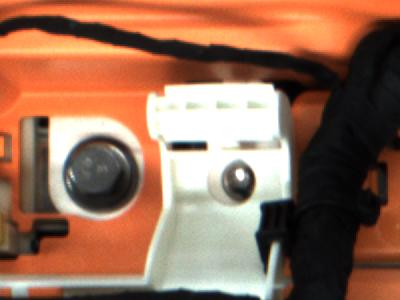nut_b: (57, 132, 147, 216)
